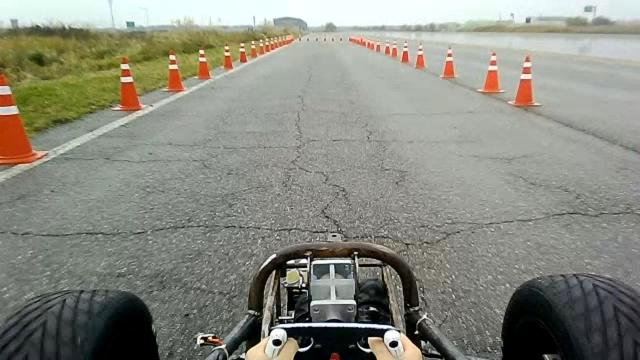red cone: (0, 73, 49, 164), (111, 56, 144, 112), (508, 55, 542, 107), (476, 50, 506, 94), (162, 49, 186, 92), (440, 45, 458, 79), (194, 47, 212, 80), (220, 42, 234, 70), (414, 41, 426, 69), (238, 40, 248, 66), (400, 40, 410, 63), (391, 39, 399, 57), (250, 40, 258, 58)
